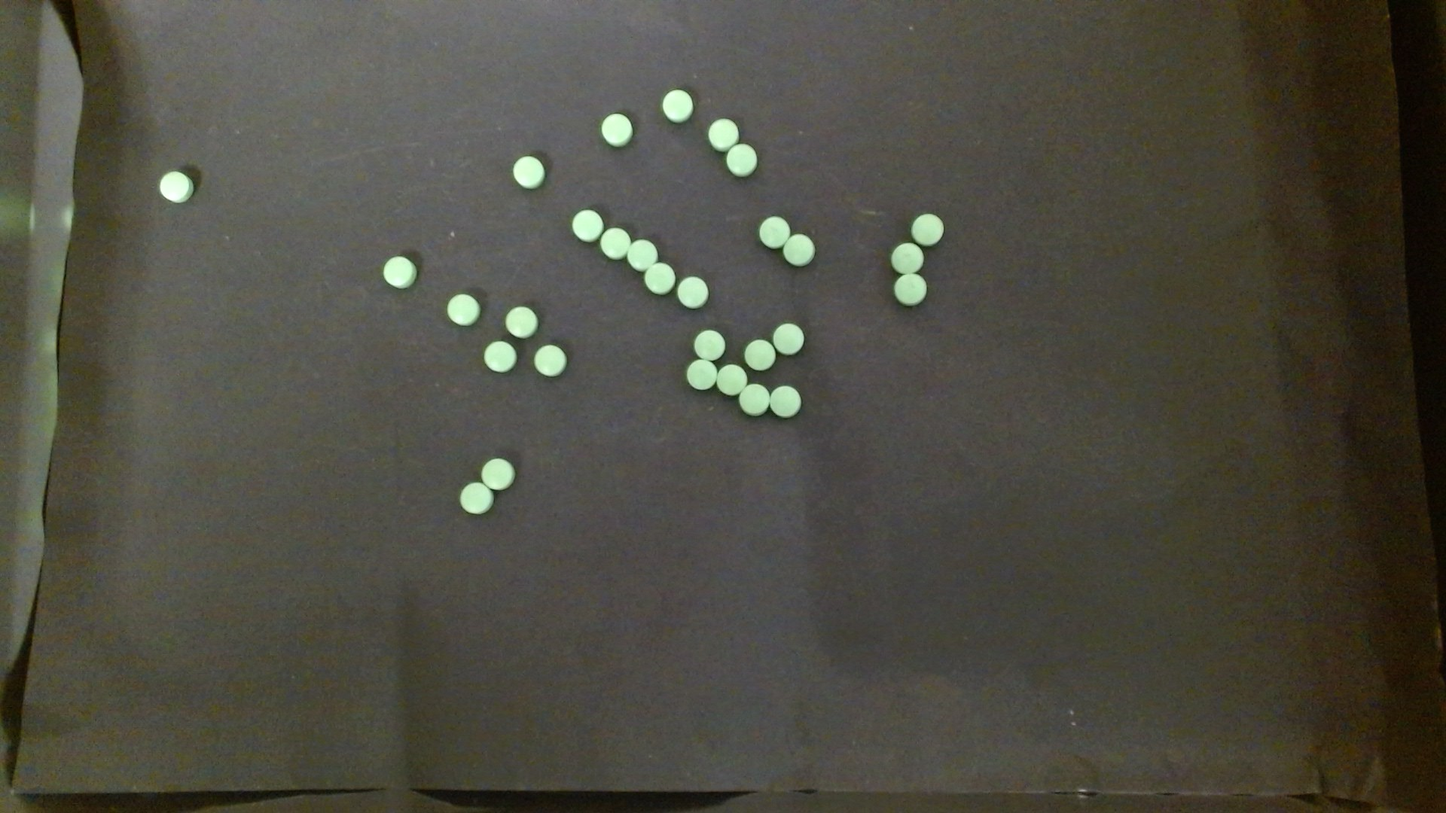Circle: (157, 168, 194, 202), (511, 153, 546, 188), (911, 212, 944, 245), (459, 482, 492, 514), (600, 113, 632, 146), (383, 256, 416, 288), (484, 341, 516, 373), (534, 344, 566, 376), (894, 273, 926, 305), (891, 242, 923, 274), (739, 383, 770, 416), (480, 458, 513, 489), (661, 89, 692, 122), (773, 322, 804, 355), (783, 234, 814, 266), (677, 277, 708, 309), (770, 385, 801, 417), (505, 306, 537, 337), (694, 329, 725, 360), (447, 293, 478, 324), (727, 144, 757, 176), (759, 216, 789, 248), (572, 208, 602, 240), (645, 263, 675, 294), (686, 360, 717, 390), (708, 118, 737, 150), (744, 340, 774, 370), (600, 227, 630, 257), (717, 364, 746, 394), (627, 240, 655, 271)
